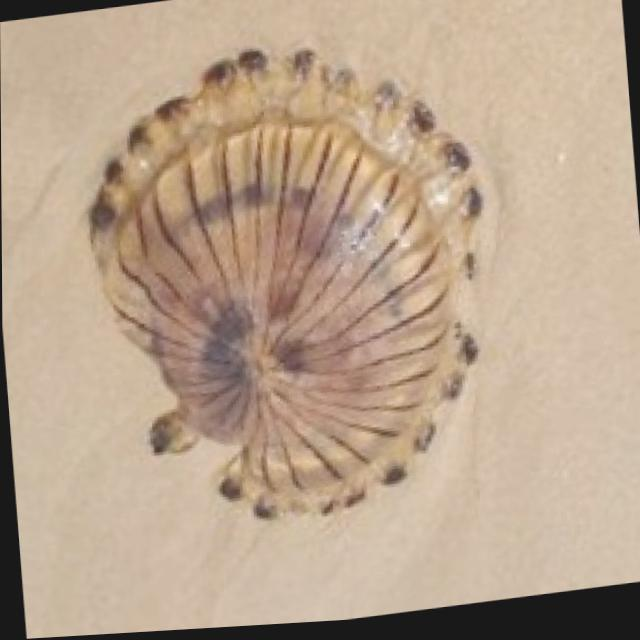Box-jellyfish: (70, 23, 508, 553)
